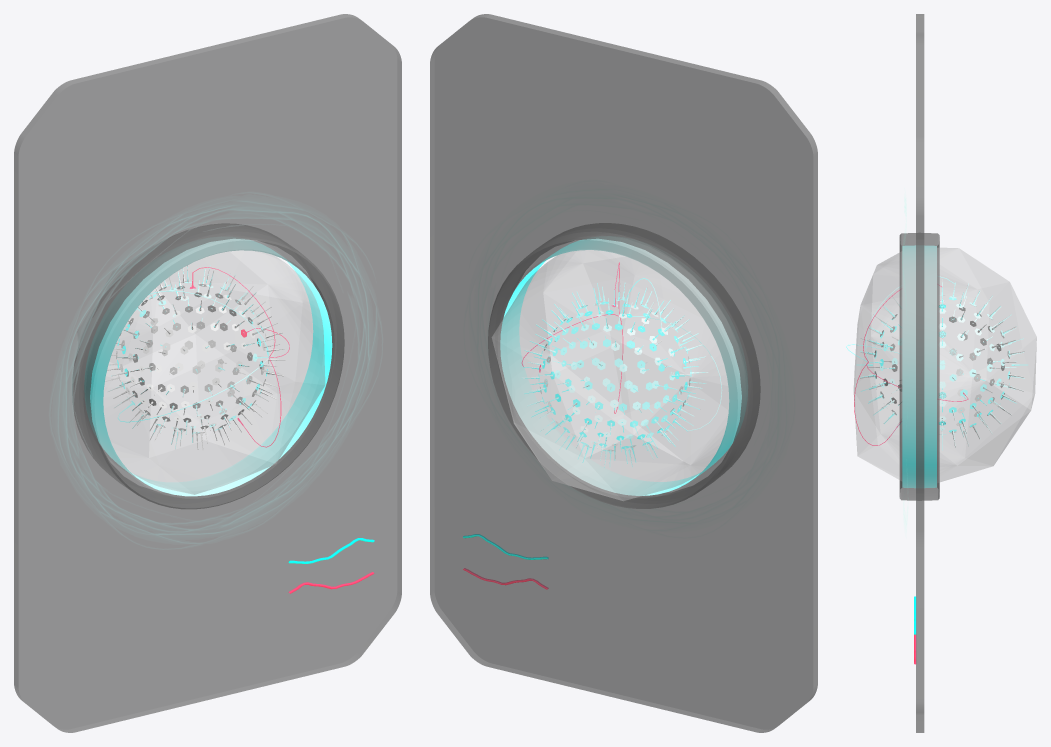
Rendered from update.glb.
The picture shows the model from 3 angles, left to right: view 1: azimuth 30°, elevation 25°; view 2: azimuth 150°, elevation 25°; view 3: azimuth 270°, elevation 25°; orthographic projection. The views are drawn at different scales.
Parts seen in each view (by area): view 1: baseGreen, Glass, Corner, neon-corner, baseCorner, neon-sphereBase2, spike.1379, neon-sphere.001, neon-rimGreen; view 2: baseGreen, Glass, Corner, neon-corner, baseCorner, neon-sphere.001, spike.1379, neon-sphereBase2; view 3: Glass, Corner, neon-corner, baseCorner, neon-sphere.001, neon-sphereBase2, spike.1379.
Part boxes in pixels (x1,y1,x2,y2): baseGreen: (14, 14, 401, 732); Glass: (103, 250, 324, 494); Corner: (73, 224, 344, 509); neon-corner: (85, 237, 332, 496); baseCorner: (14, 14, 401, 732); neon-sphereBase2: (116, 281, 268, 433); spike.1379: (105, 265, 285, 449); neon-sphere.001: (108, 265, 284, 448); neon-rimGreen: (65, 204, 369, 541); baseGreen: (430, 14, 817, 732); Glass: (492, 250, 728, 500); Corner: (488, 223, 759, 508); neon-corner: (500, 236, 747, 495); baseCorner: (430, 14, 817, 732); neon-sphere.001: (521, 282, 708, 467); spike.1379: (530, 283, 705, 464); neon-sphereBase2: (539, 299, 690, 451); Glass: (854, 248, 1036, 481); Corner: (899, 233, 939, 500); neon-corner: (902, 245, 936, 488); baseCorner: (916, 14, 924, 732); neon-sphere.001: (856, 282, 1027, 450); neon-sphereBase2: (874, 295, 1010, 434); spike.1379: (860, 279, 1024, 447).
Size of the model in its own units: 1.47 by 2.38 by 0.6934.
Materials: 8 (1 with a texture image).
